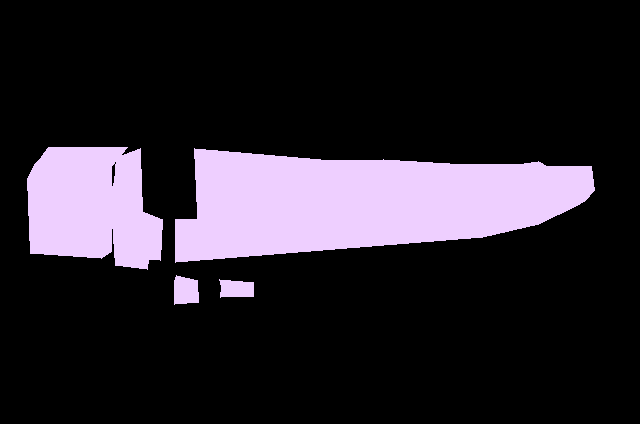Train: (110, 148, 594, 304), (27, 147, 128, 258)
